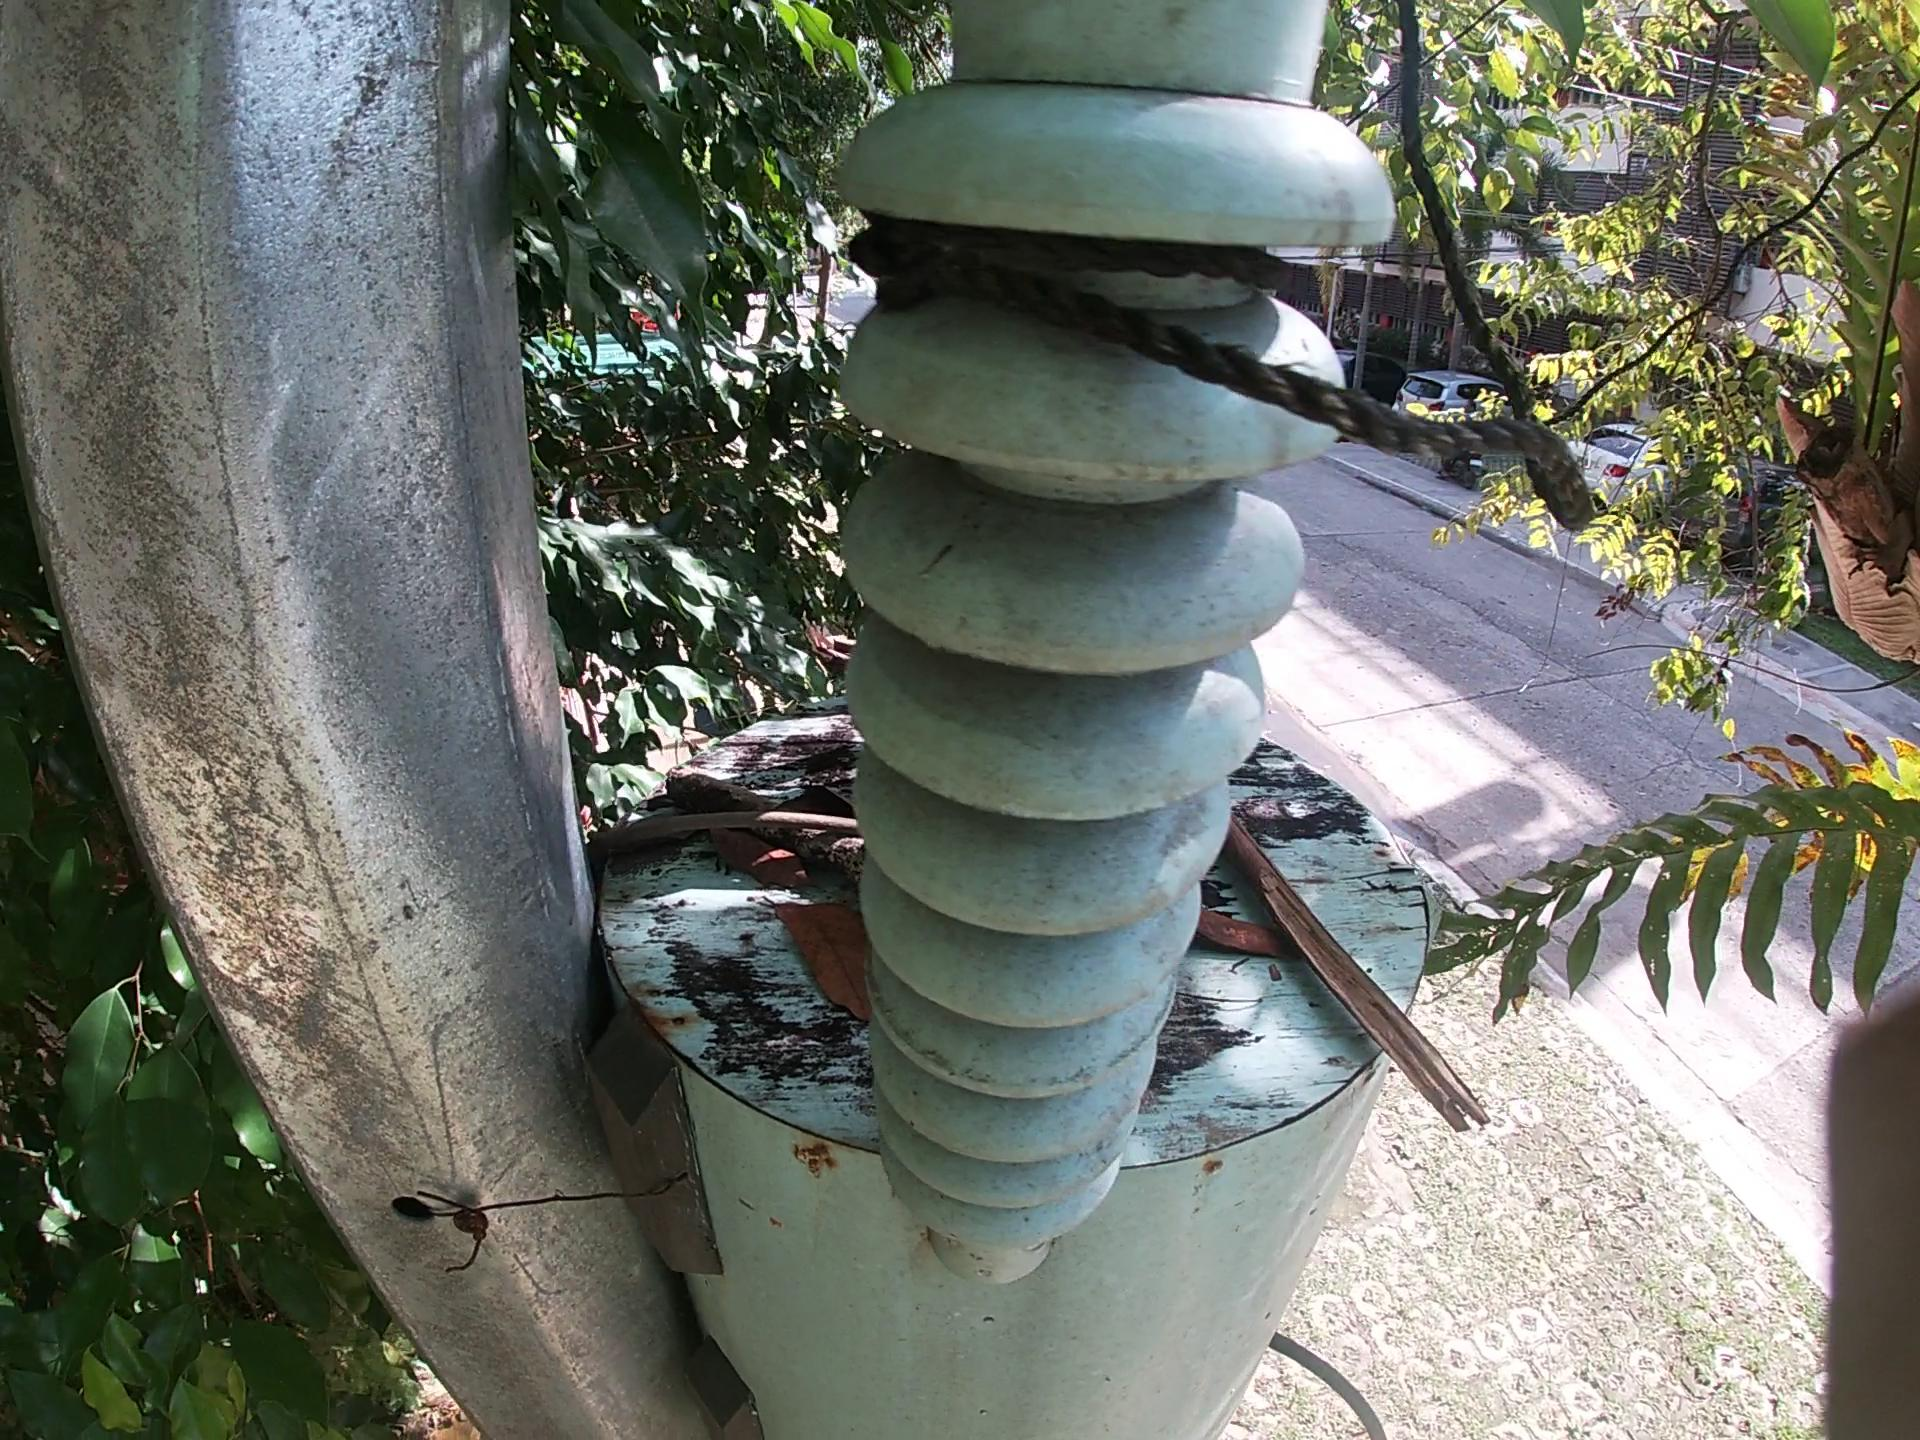leaf: (759, 892, 897, 1026), (701, 835, 810, 885), (797, 777, 857, 812)
mahogany fruit: (1181, 909, 1299, 970)
tree branch: (1225, 806, 1504, 1142), (677, 758, 875, 867), (590, 808, 884, 879), (789, 625, 871, 667)
